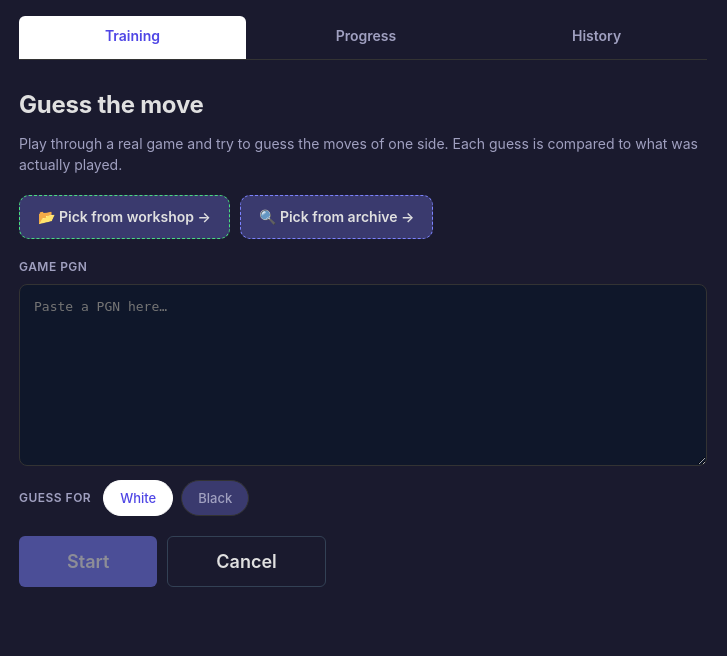
Test: <GuessLandingPage> KS-3412 › невалидный PGN → Start задизейблен + ошибка
Type "not a real pgn 1. zz9" into the text box with test id "guess-pgn-input". click: (363, 375)
box: [19,284,707,466]
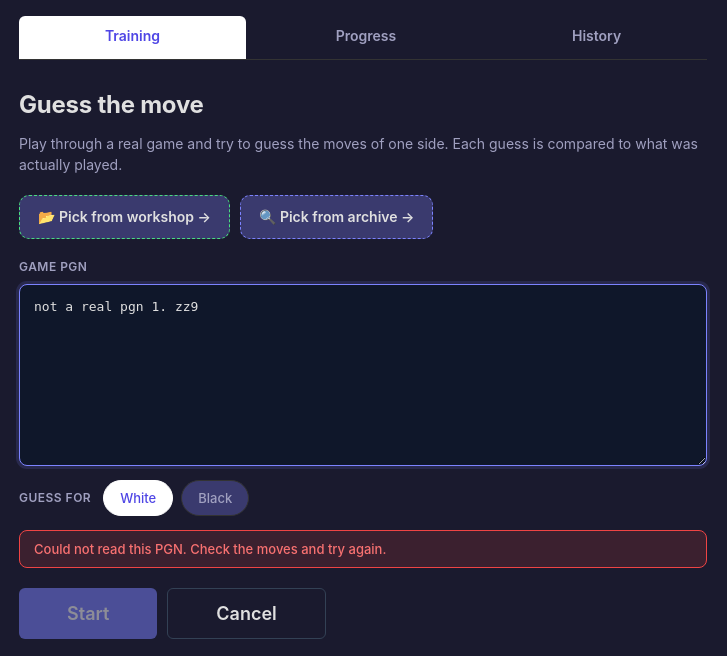
Check: the button with test id "guess-start" is disabled, box [19,588,157,639]
Check: the text "Could not read this PGN. Check the moves and try again." is shown, box [19,530,707,568]
